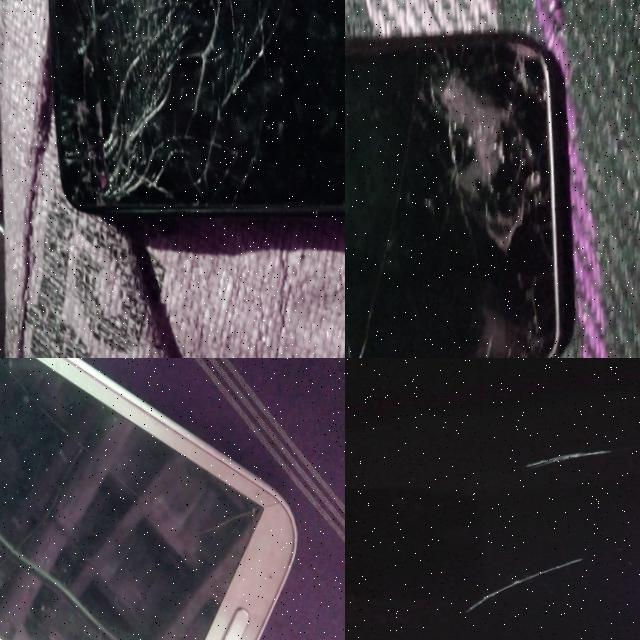scratch: (466, 552, 583, 612), (524, 444, 611, 468)
screen crack: (36, 0, 265, 242), (0, 374, 199, 640), (429, 12, 559, 230), (214, 467, 298, 560), (474, 275, 562, 358), (345, 331, 378, 358)
